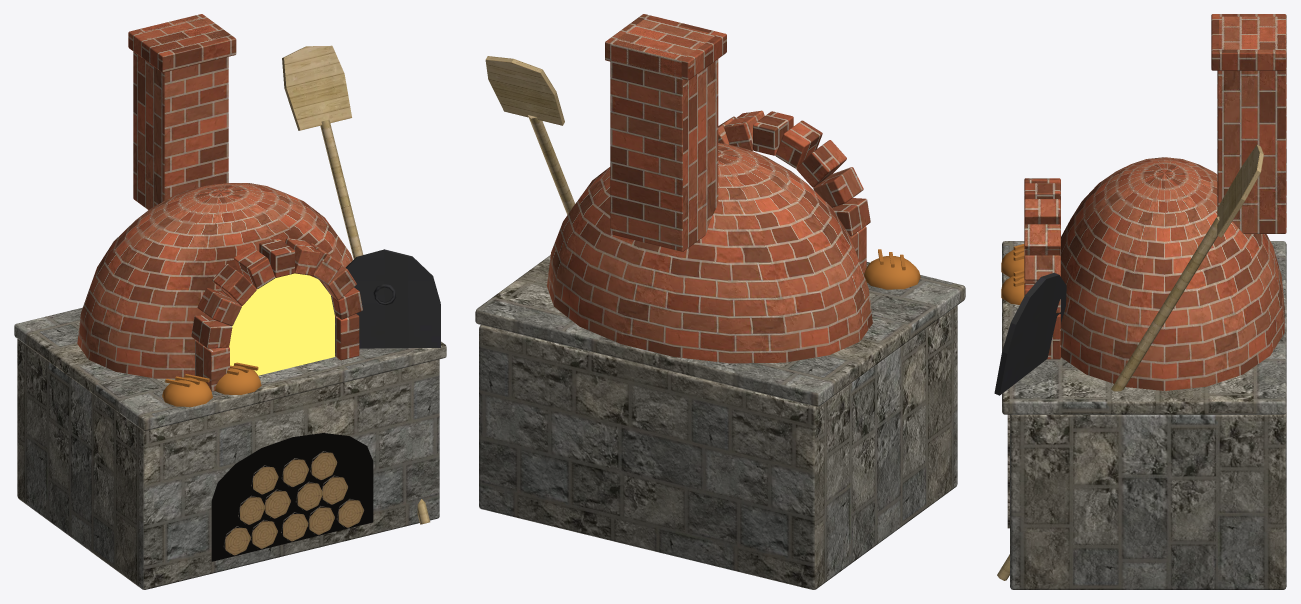
The model's file is prop_breadOven.glb.
3 views of the same model, side by side, from view 1: azimuth 30°, elevation 25°; view 2: azimuth 150°, elevation 25°; view 3: azimuth 270°, elevation 25° (orthographic). The views are drawn at different scales.
Visible parts, largest first — view 1: prop; view 2: prop; view 3: prop.
Boxes of the visible parts, x1,y1,x2,y2 form: prop: [14, 14, 446, 589]; prop: [475, 14, 965, 589]; prop: [994, 14, 1286, 589].
Size of what is drawn, in the model's own units: 0.96 by 1.3 by 0.7184.
Materials: 10 (6 with a texture image).
